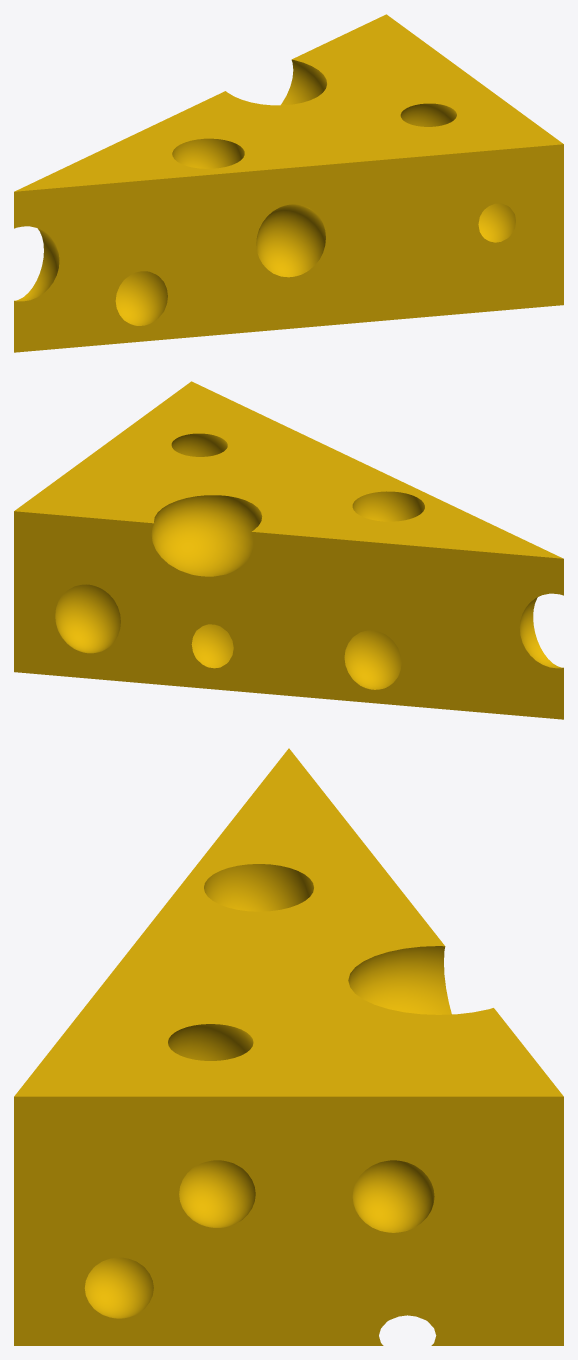
The model's file is cheese.glb.
The picture shows the model from 3 angles, top to bottom: view 1: azimuth 30°, elevation 25°; view 2: azimuth 150°, elevation 25°; view 3: azimuth 270°, elevation 25°; orthographic projection. The views are drawn at different scales.
Visible parts, largest first — view 1: Cube; view 2: Cube; view 3: Cube.
Boxes of the visible parts, x1,y1,x2,y2 form: Cube: (14,14,563,352); Cube: (14,381,563,719); Cube: (14,748,563,1345).
Bounding box in the file's own units: 3 × 1 × 2.
